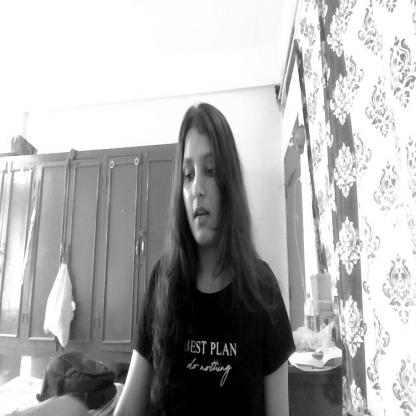Distracted: (176, 106, 235, 254)
